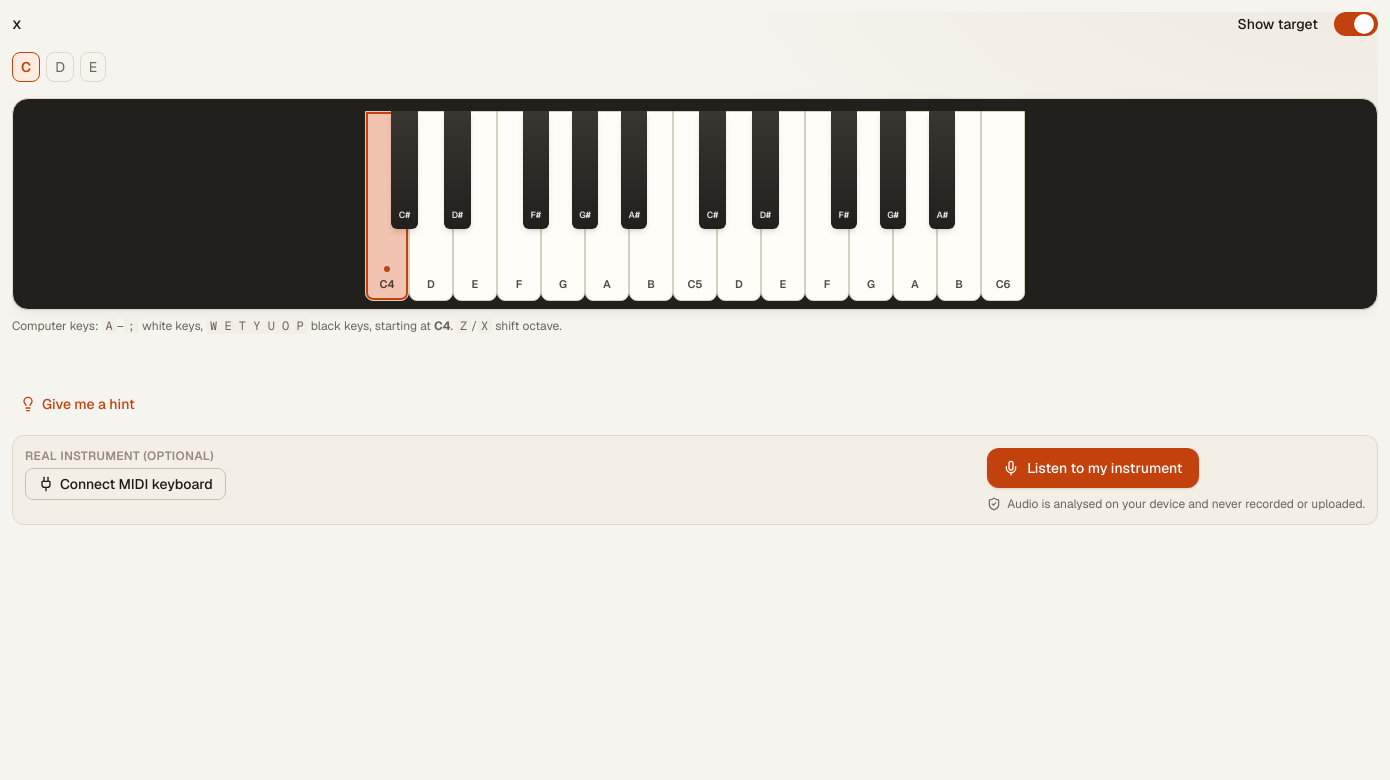
Test: exercise logic › play-sequence completes via virtual piano clicks and reports accuracy
Press the mouse on the button "C4": (387, 206) [365,111,409,301]
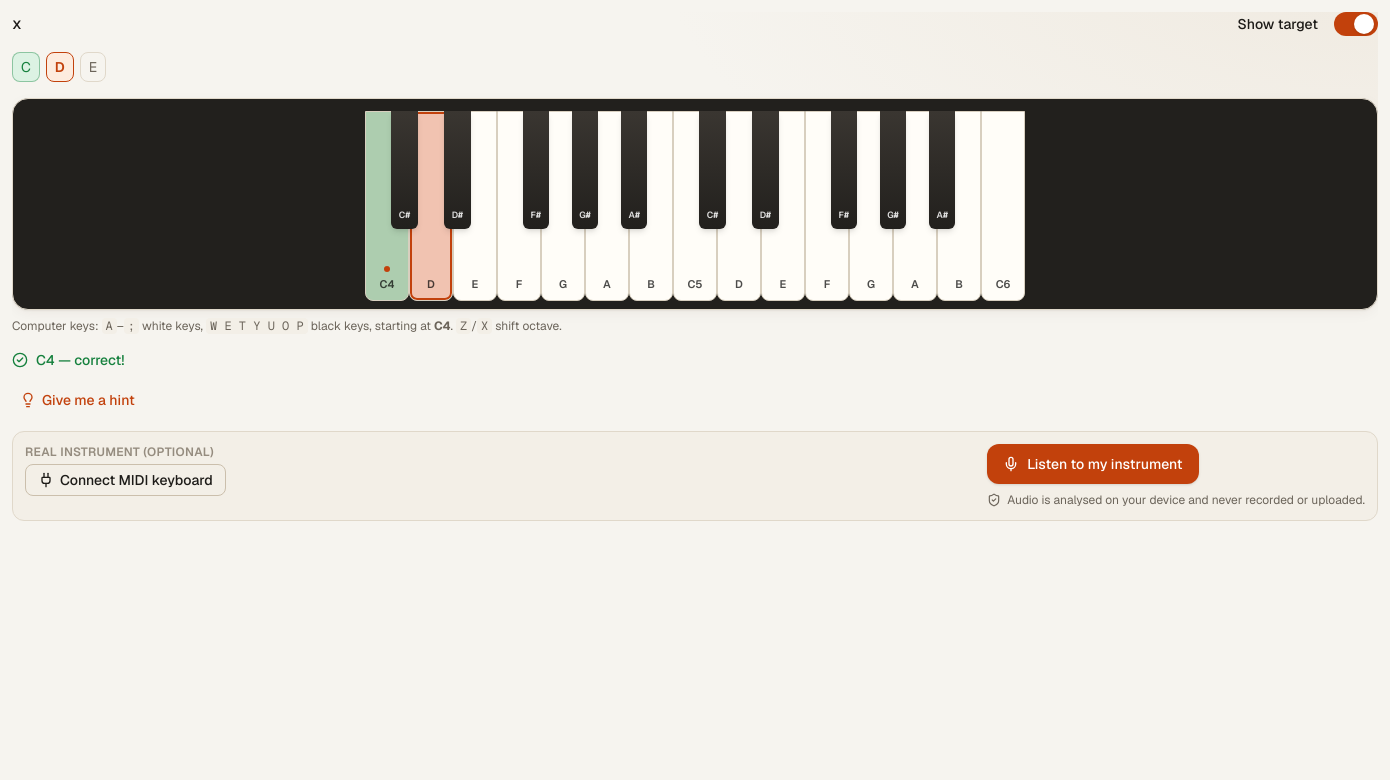
Press the mouse on the 1st button "C#": (405, 170) [391,111,418,229]
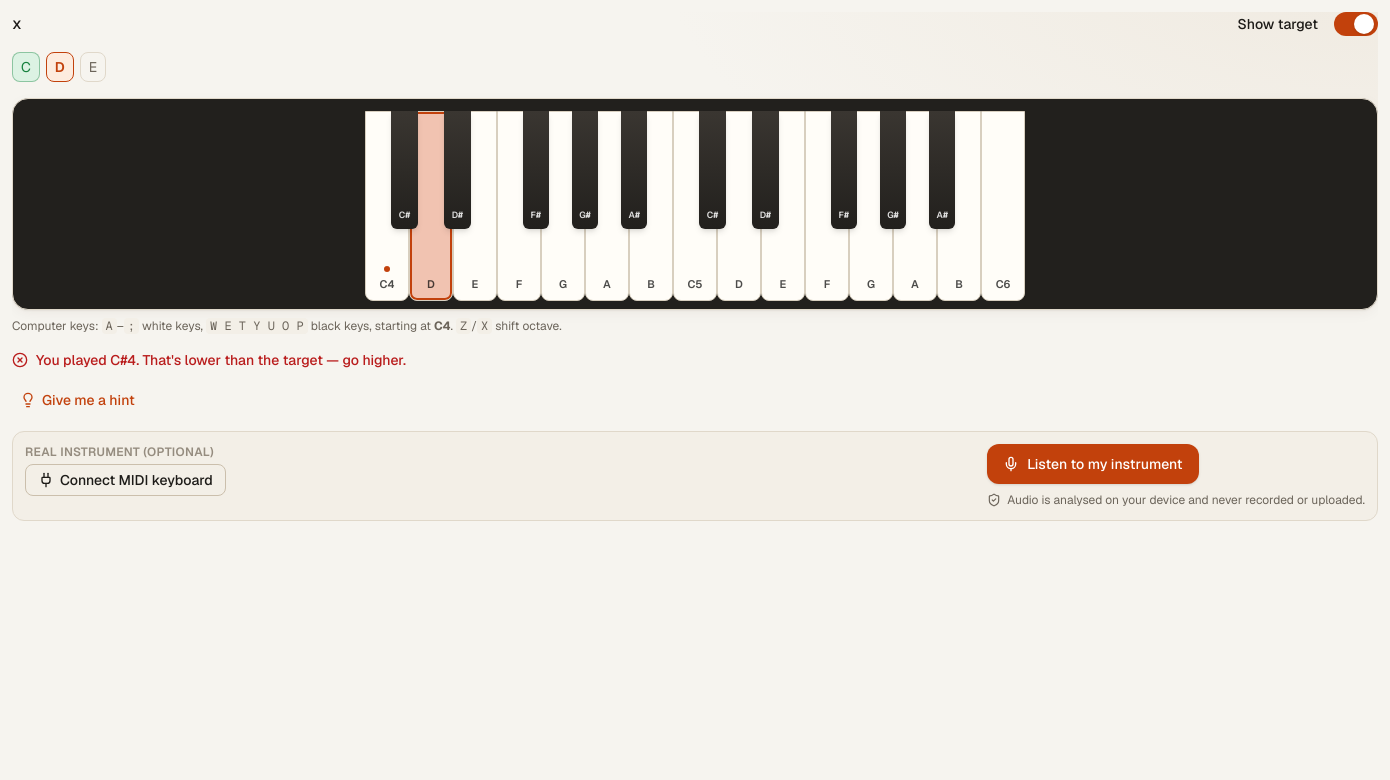
Press the mouse on the 1st button "D": (431, 206) [409,111,453,301]
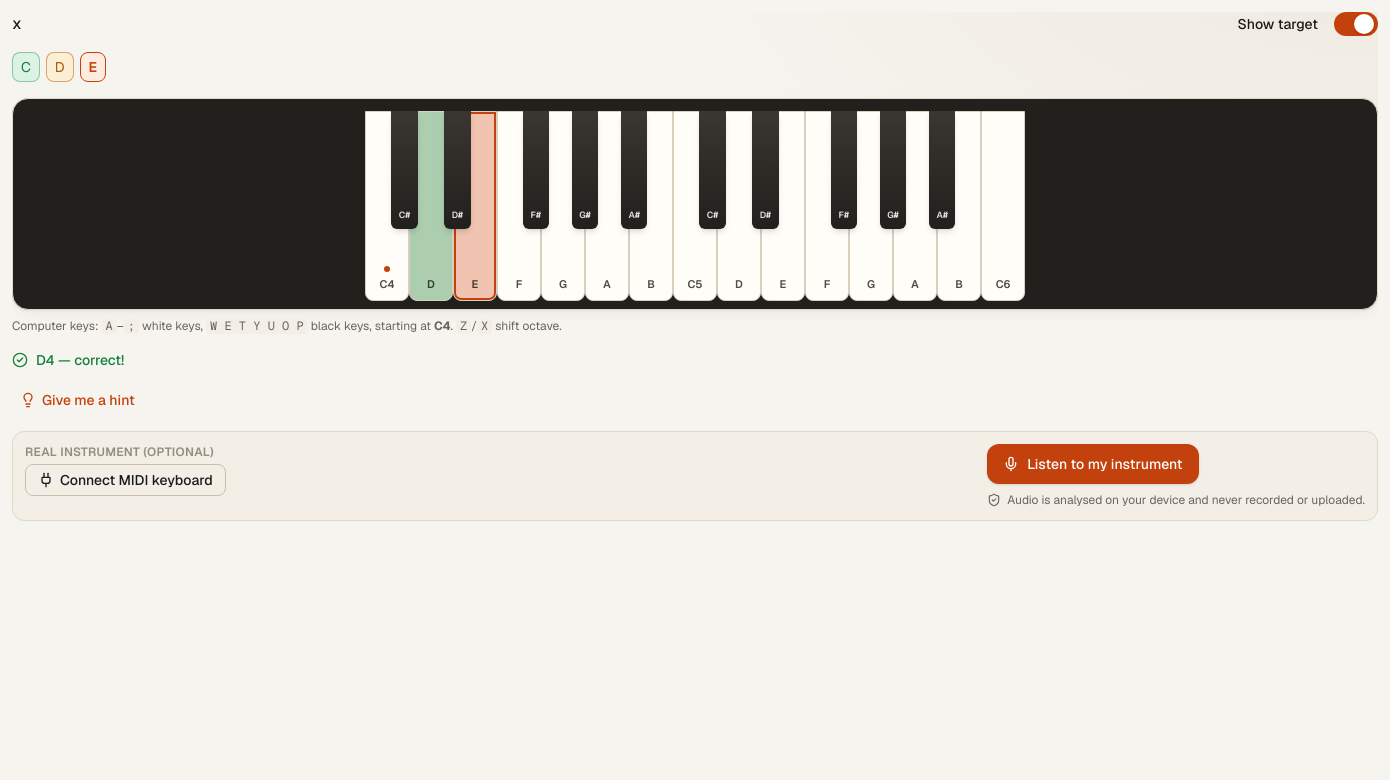
Press the mouse on the 1st button "E": (475, 206) [453,111,497,301]
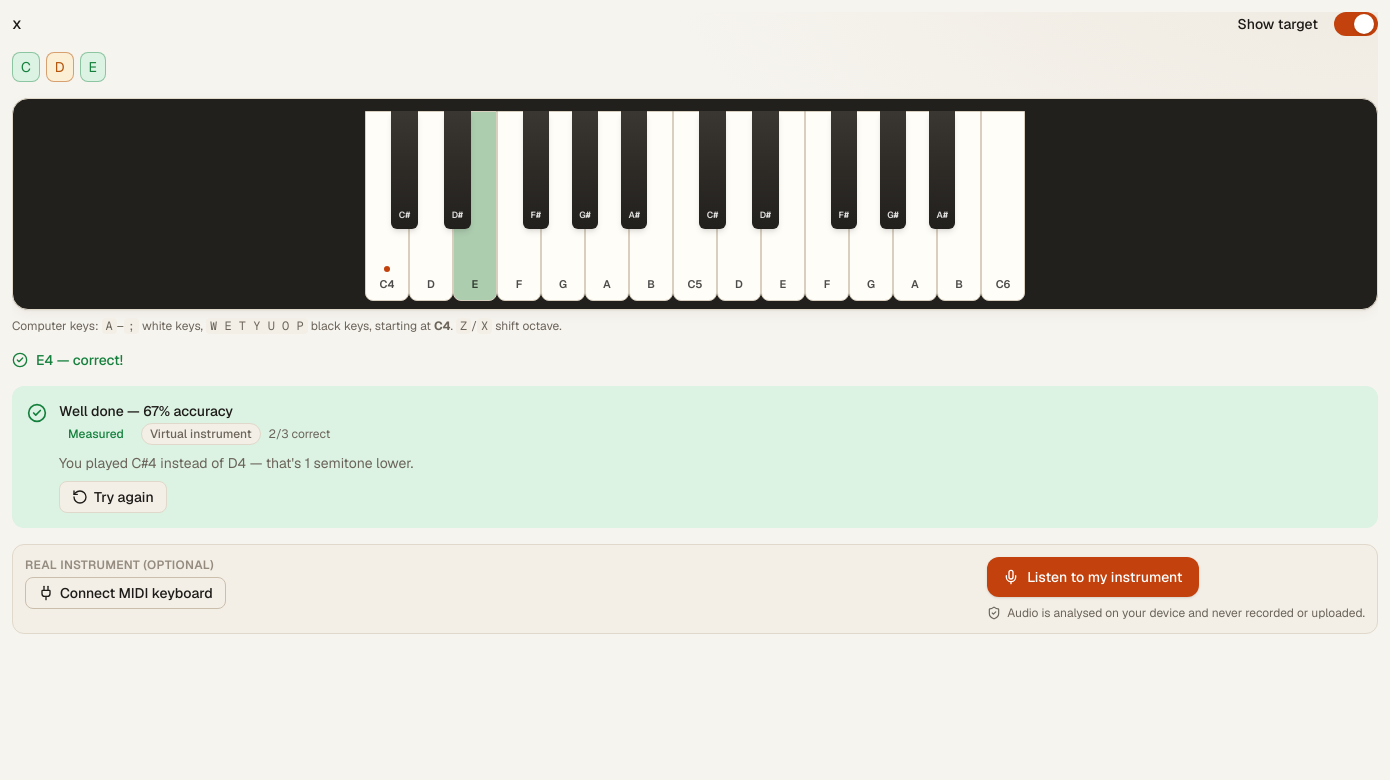
Now the text "Well done — 67% accuracy" is shown, box [59,402,233,420]
